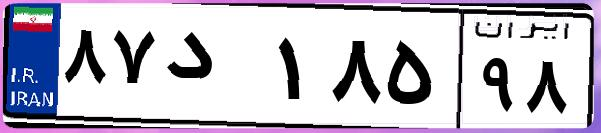1: (270, 28, 330, 110)
5: (385, 28, 445, 110)
7: (110, 28, 158, 98)
8: (330, 28, 385, 110), (57, 26, 110, 100), (525, 38, 570, 115)
9: (475, 38, 525, 113)
د: (158, 20, 270, 120)
